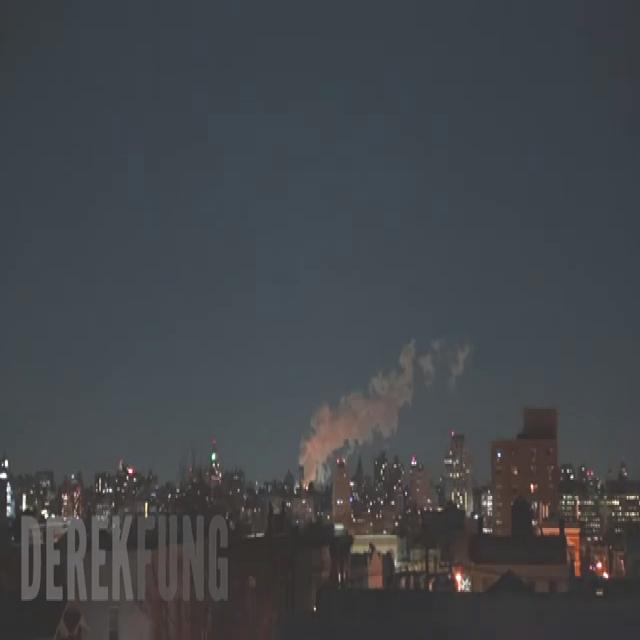smoke: (299, 340, 469, 476)
